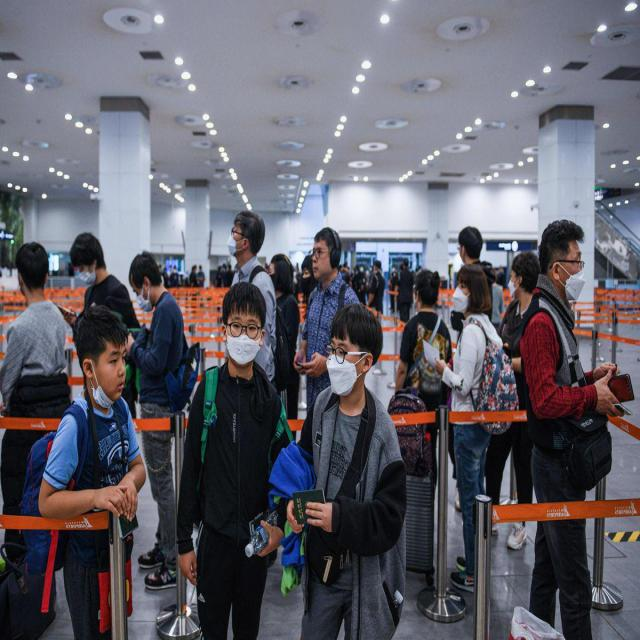face: (323, 302, 387, 402), (72, 306, 131, 408), (536, 216, 593, 309), (220, 280, 270, 370), (450, 261, 493, 327), (130, 242, 167, 314), (225, 206, 268, 267), (71, 224, 110, 290), (310, 223, 343, 288), (506, 248, 540, 306)
